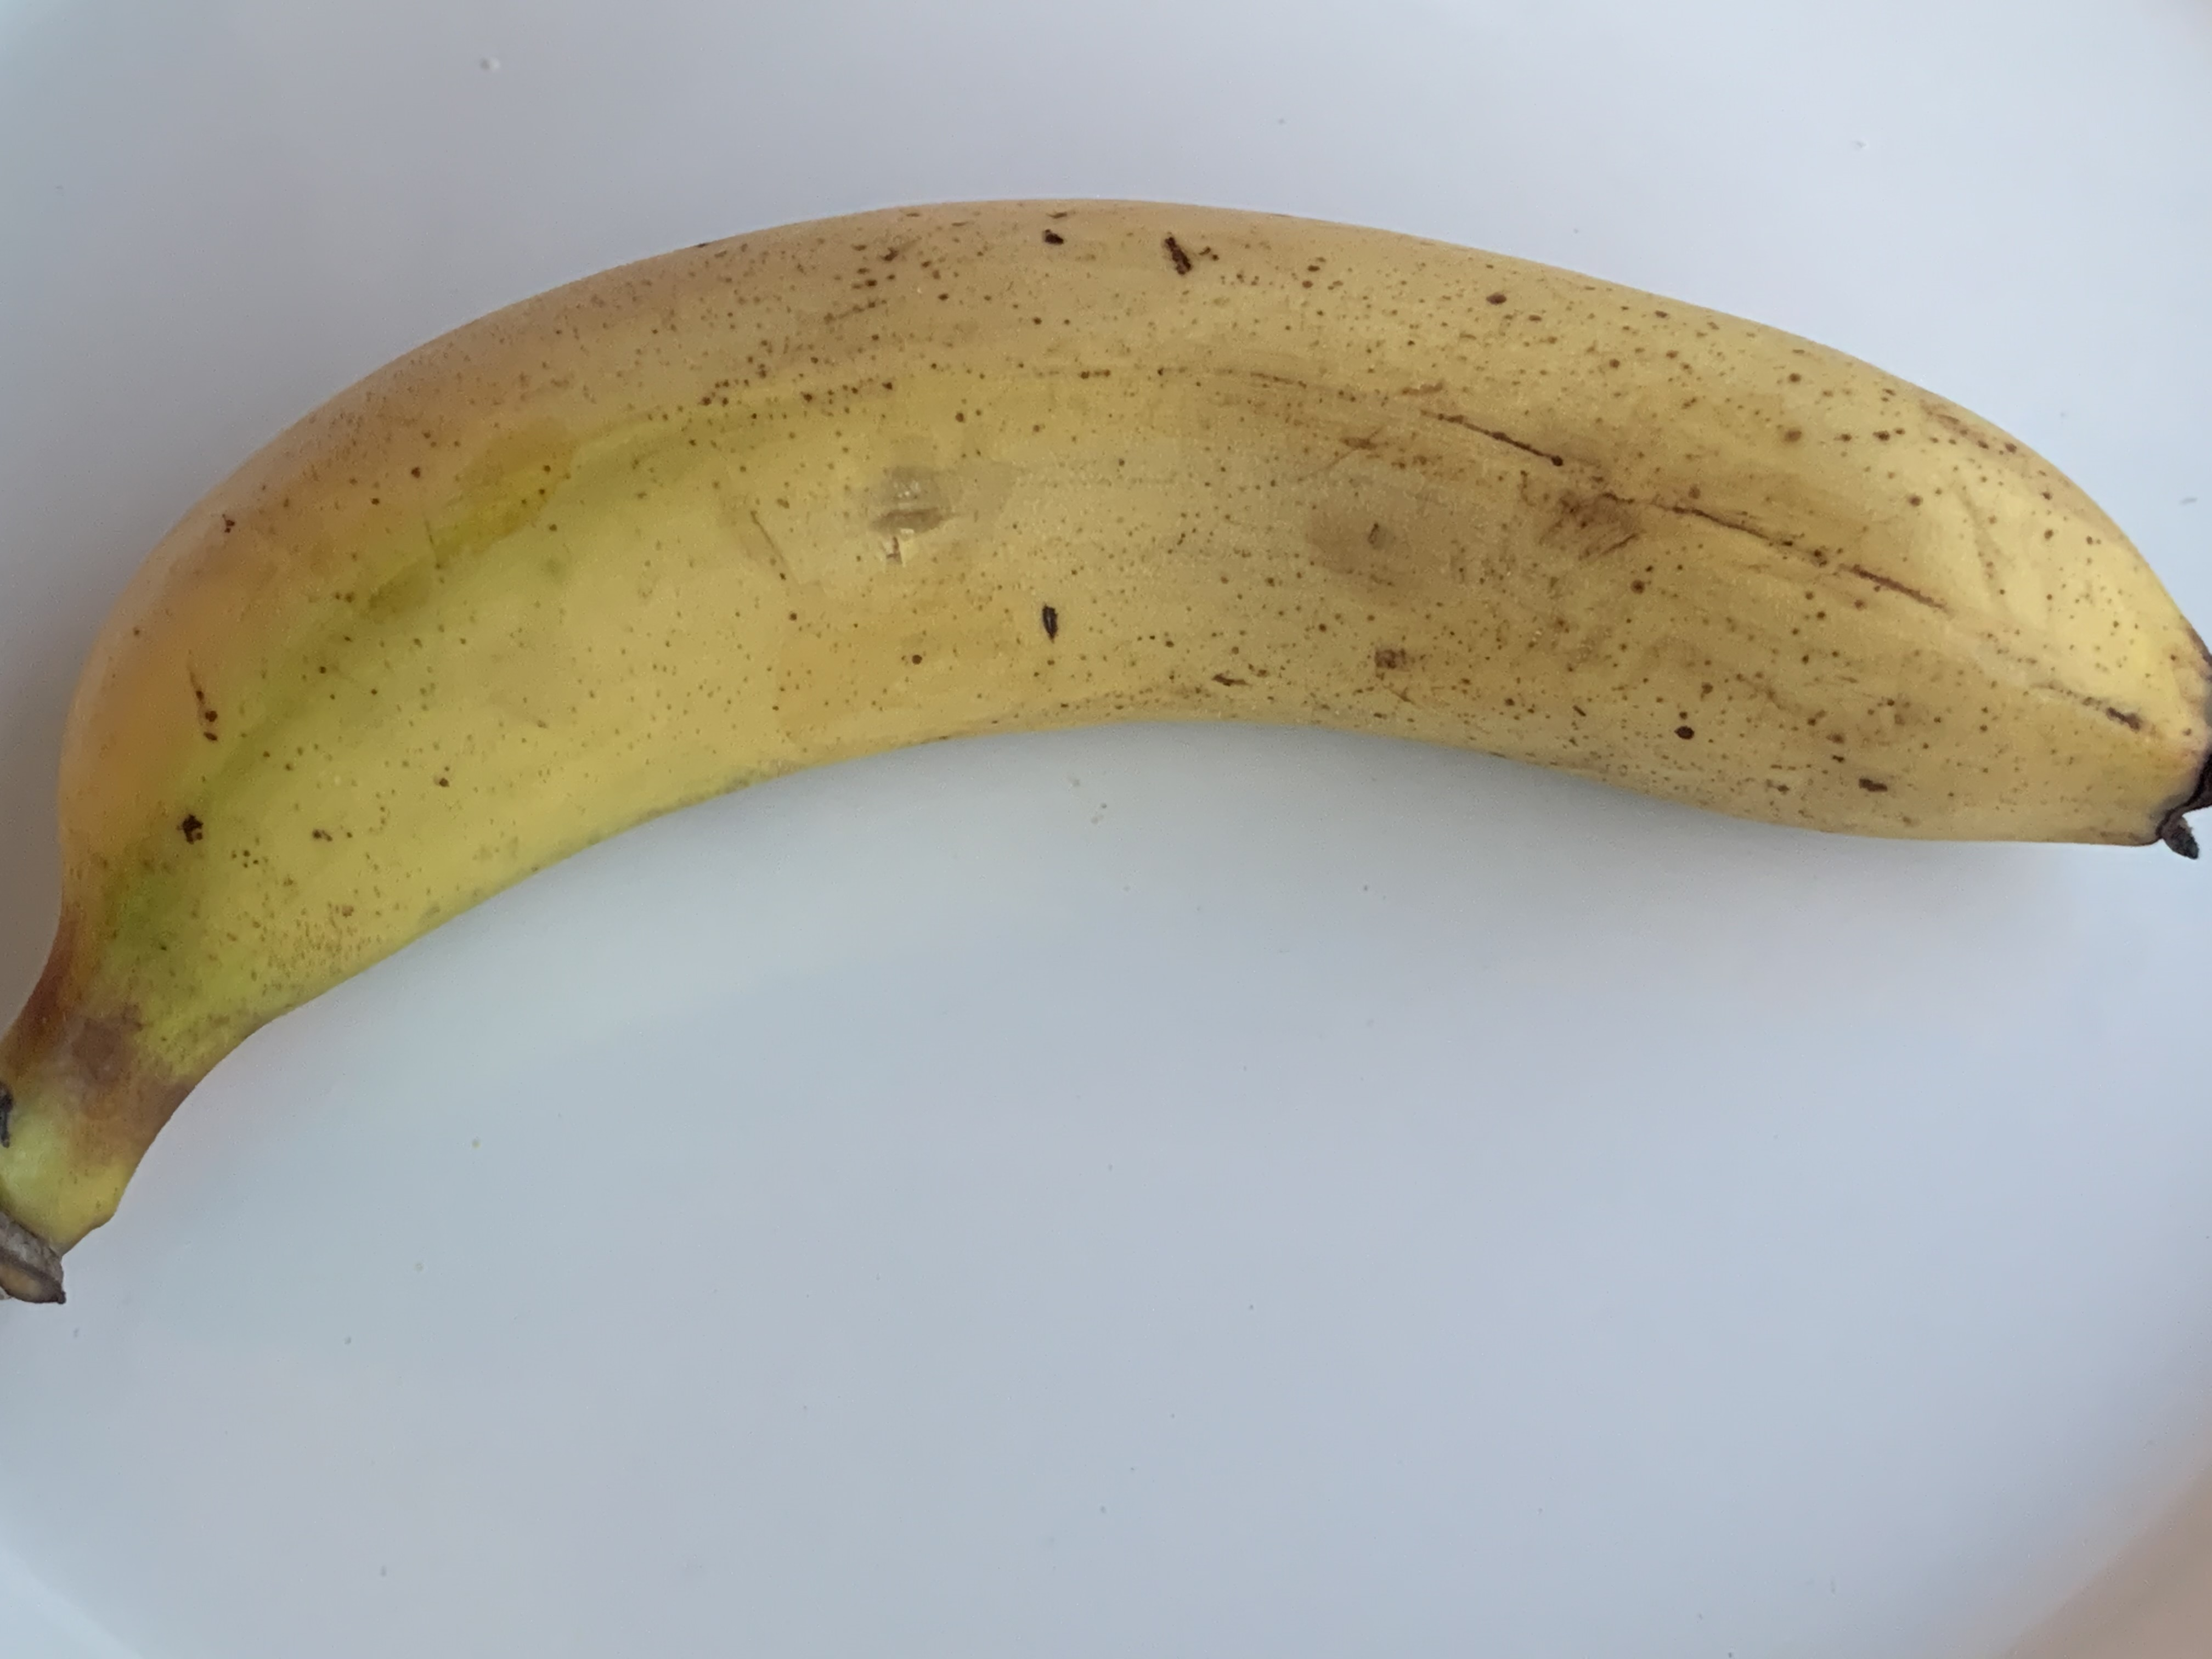banana: (16, 150, 2212, 1305)
